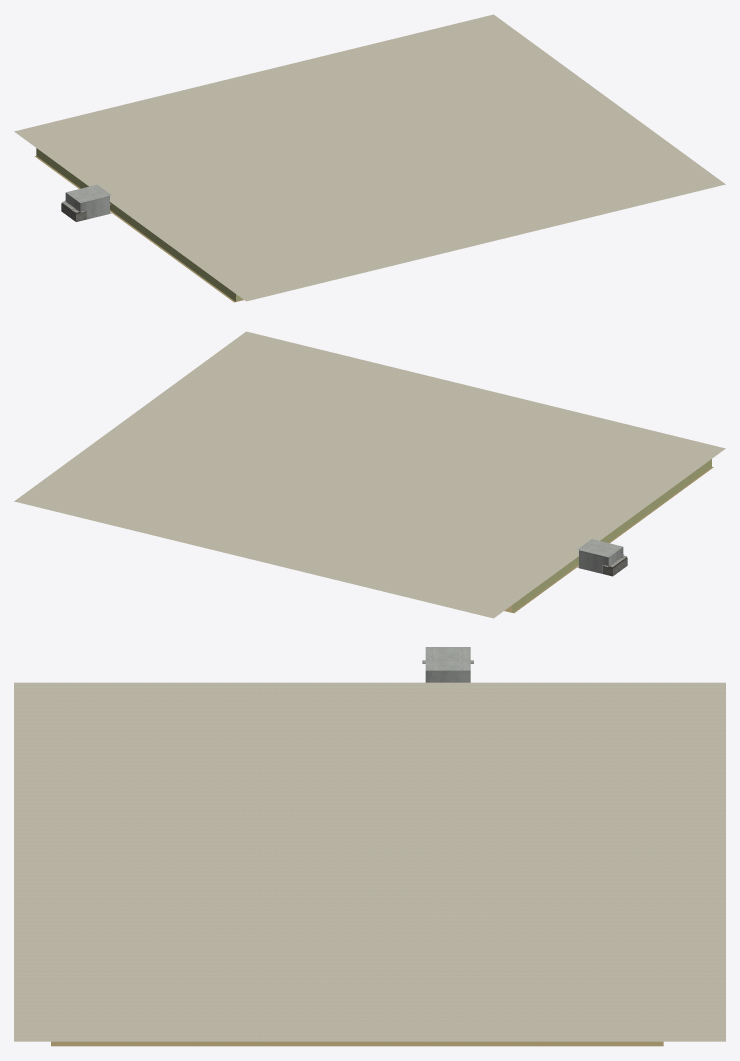
Rendered from course_shd.dae.
3 renders of one model, top to bottom at view 1: azimuth 30°, elevation 25°; view 2: azimuth 150°, elevation 25°; view 3: azimuth 270°, elevation 25°, orthographic. The views are drawn at different scales.
Visible parts, largest first — view 1: track.028, track.030, track.031, track.040; view 2: track.028, track.030, track.031, track.040; view 3: track.028, track.029, track.040.
Boxes of the visible parts, x1,y1,x2,y2 form: track.028: [14, 14, 725, 301]; track.030: [36, 148, 242, 301]; track.031: [65, 193, 109, 219]; track.040: [66, 184, 111, 202]; track.028: [14, 331, 725, 618]; track.030: [512, 459, 711, 612]; track.031: [579, 547, 623, 573]; track.040: [577, 539, 622, 557]; track.028: [14, 682, 725, 1041]; track.029: [51, 1041, 663, 1046]; track.040: [425, 647, 470, 670].
Size of the model in its own units: 109253 by 3960 by 85241.
